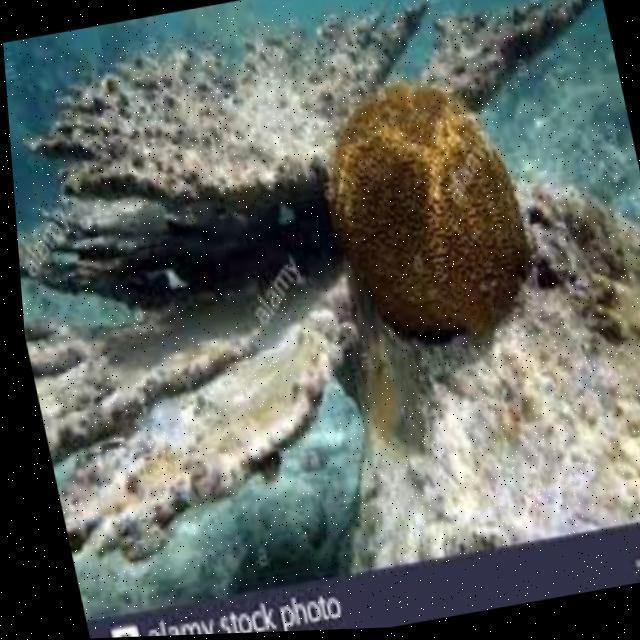Dead Coral: (27, 24, 354, 524)
Healthy Coral: (294, 68, 560, 378)
